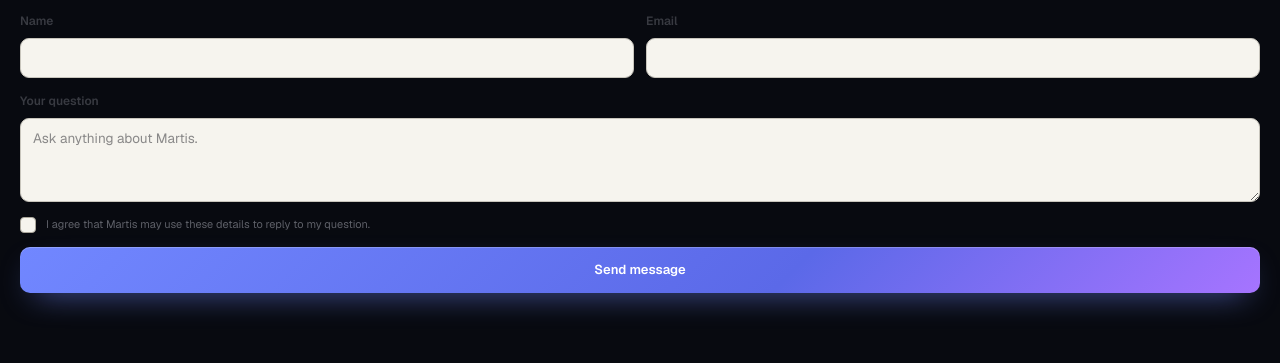
Test case: ContactForm › sends compact submissions as the prompt and explains rate limiting
Type "Ana" into the field labelled "Name" at (327, 58), box [20, 38, 634, 78]
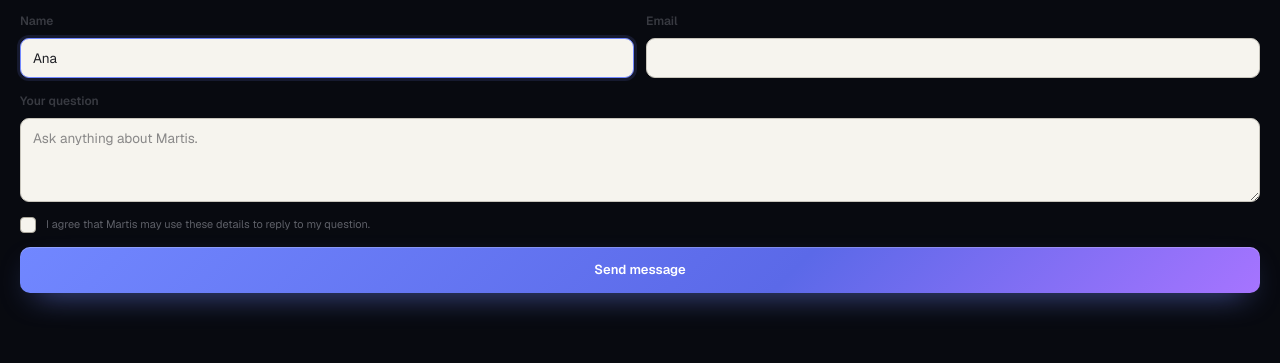
Type "ana@example.com" into the field labelled "Email" at (953, 58), box [646, 38, 1260, 78]
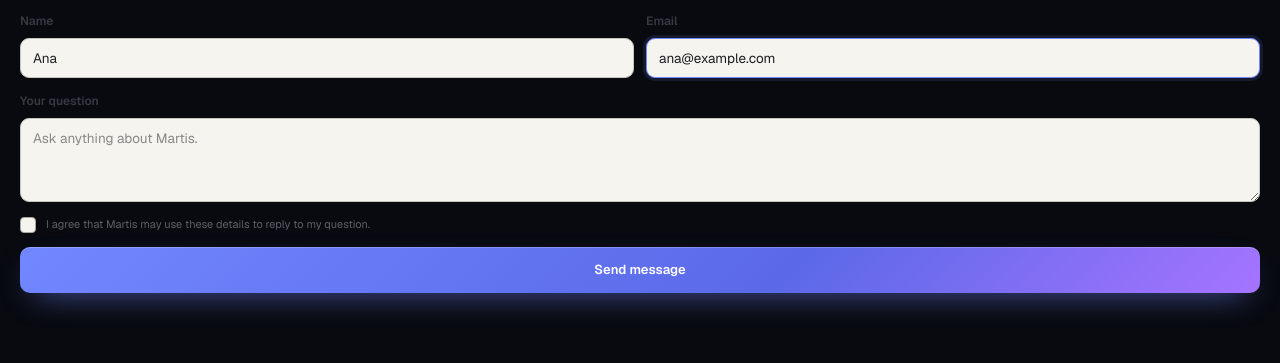
Type "Does it support multi-tenancy?" into the text box labelled "Your question" at (640, 160), box [20, 118, 1260, 202]
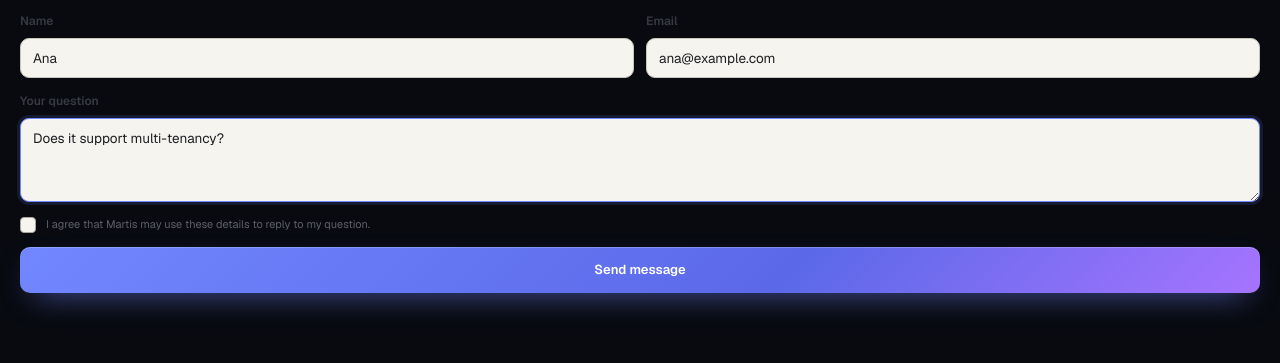
Click the checkbox labelled "I agree" at (28, 225), box [20, 217, 36, 233]
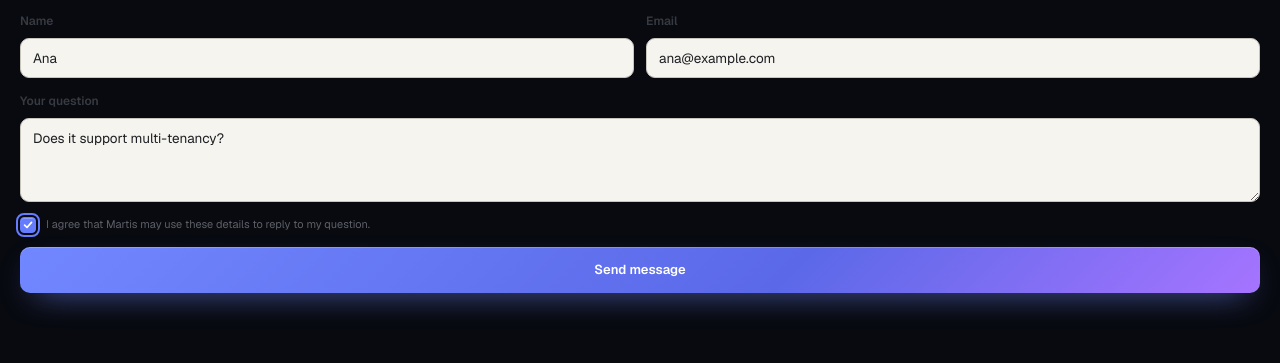
Click the button "Send message" at (640, 270), box [20, 247, 1260, 293]
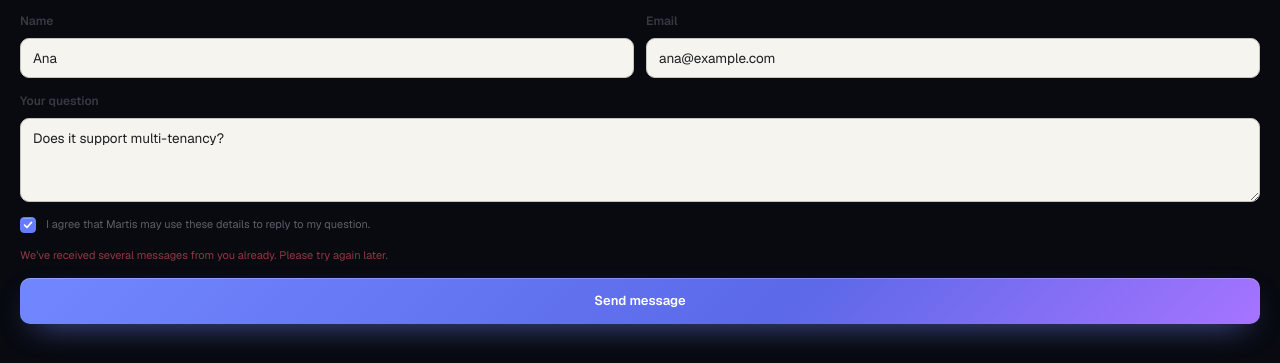
Now the text "We’ve received several messages from you already. Please try again later." is shown, box [20, 248, 388, 262]
